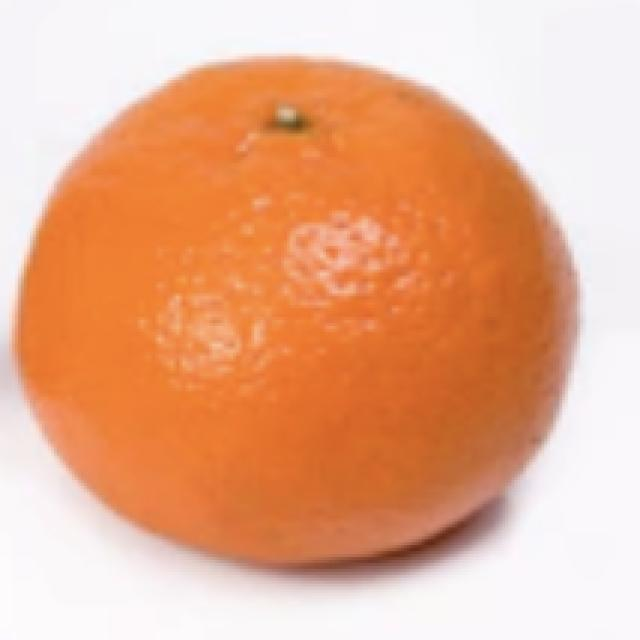orange: (2, 44, 598, 574)
